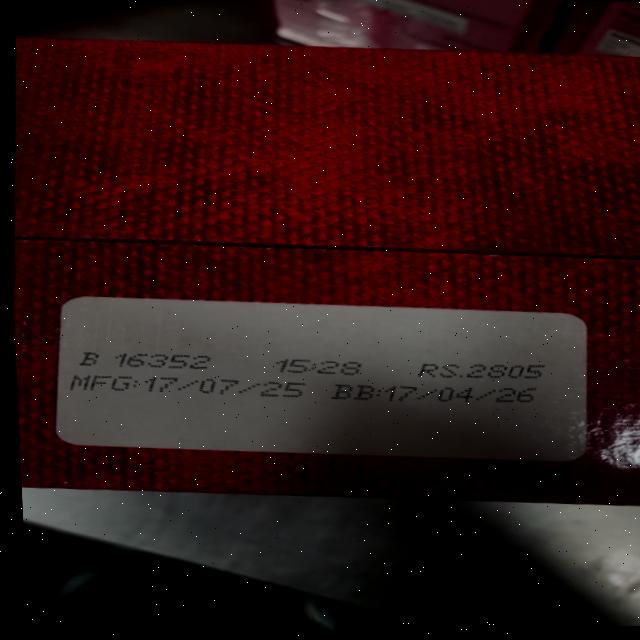BB: (324, 374, 563, 413)
Batch: (69, 342, 220, 374)
MFG: (64, 367, 304, 404)
RS: (414, 352, 556, 386)
TimeStamp: (271, 353, 364, 381)
